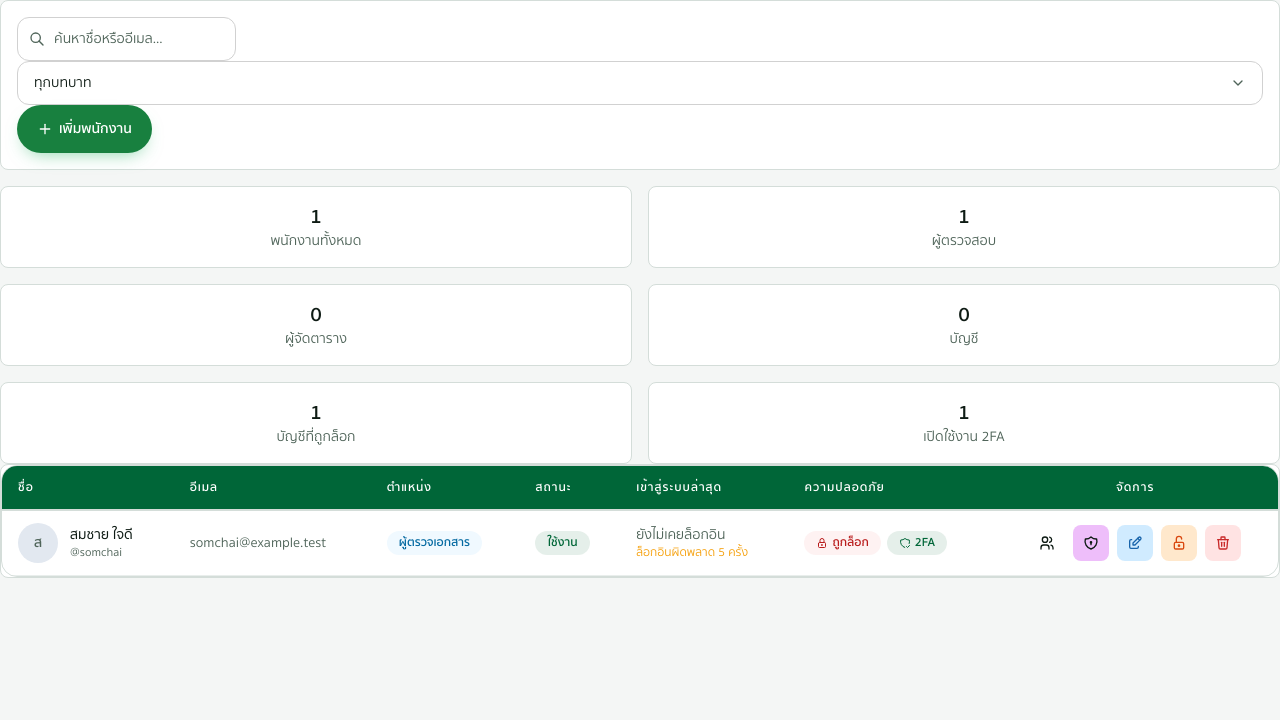
it: /provider/management — edit dialog › control: creating an account still asks for an initial password
The image size is (1280, 720).
Click the button "เพิ่มพนักงาน": (84, 129) 17,105 -> 152,153
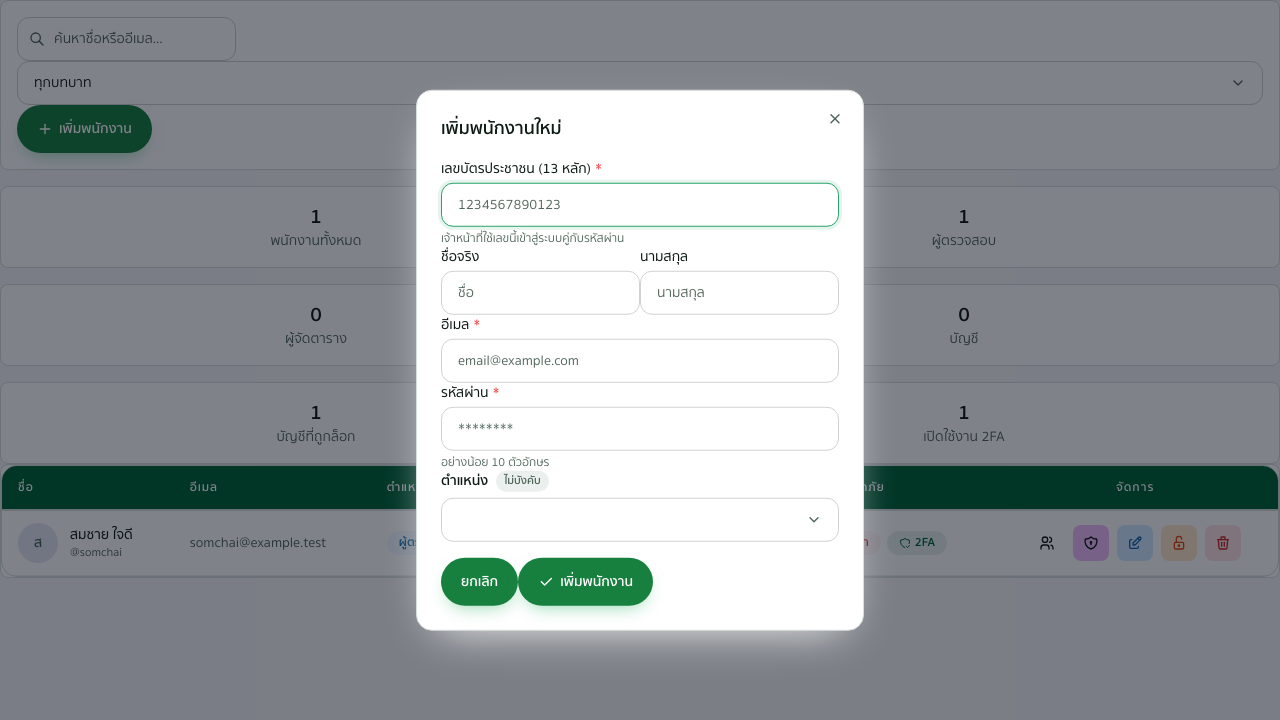
Now the dialog shows "รหัสผ่าน", box 441,382 -> 488,404
Now the number of password fields is 1, box 441,407 -> 839,451
